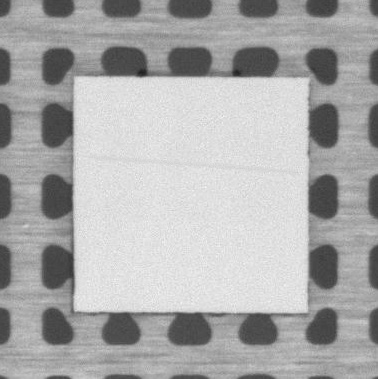DIE_CRACK: (89, 157, 296, 172)
